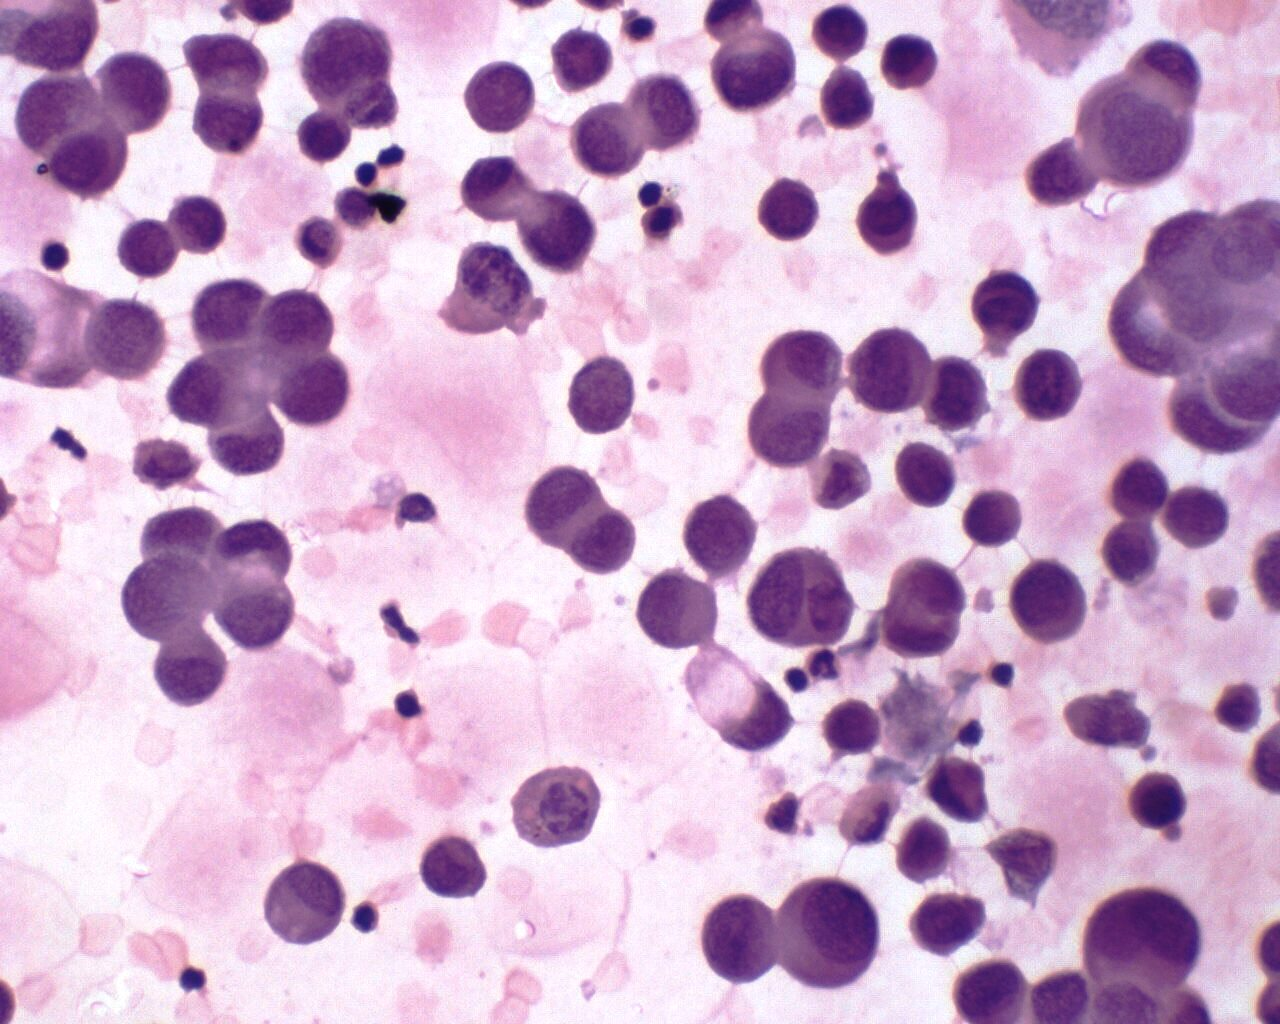ab: (774, 875, 884, 991), (709, 26, 799, 115), (1010, 556, 1096, 646), (845, 325, 930, 416), (699, 892, 779, 986), (635, 567, 720, 650), (47, 121, 133, 203), (681, 490, 758, 579), (515, 190, 597, 272), (253, 289, 340, 366), (921, 353, 997, 437), (461, 59, 539, 136), (152, 629, 230, 706), (413, 832, 493, 906), (909, 889, 990, 958), (967, 266, 1040, 341), (1011, 343, 1083, 419), (1127, 766, 1195, 837), (1165, 479, 1232, 548), (1106, 453, 1171, 522), (957, 488, 1031, 549), (1096, 520, 1163, 587), (753, 174, 819, 240), (894, 439, 958, 507), (118, 215, 179, 279), (809, 4, 872, 62)
lymph: (39, 230, 75, 279)
neutro: (802, 644, 845, 685)
